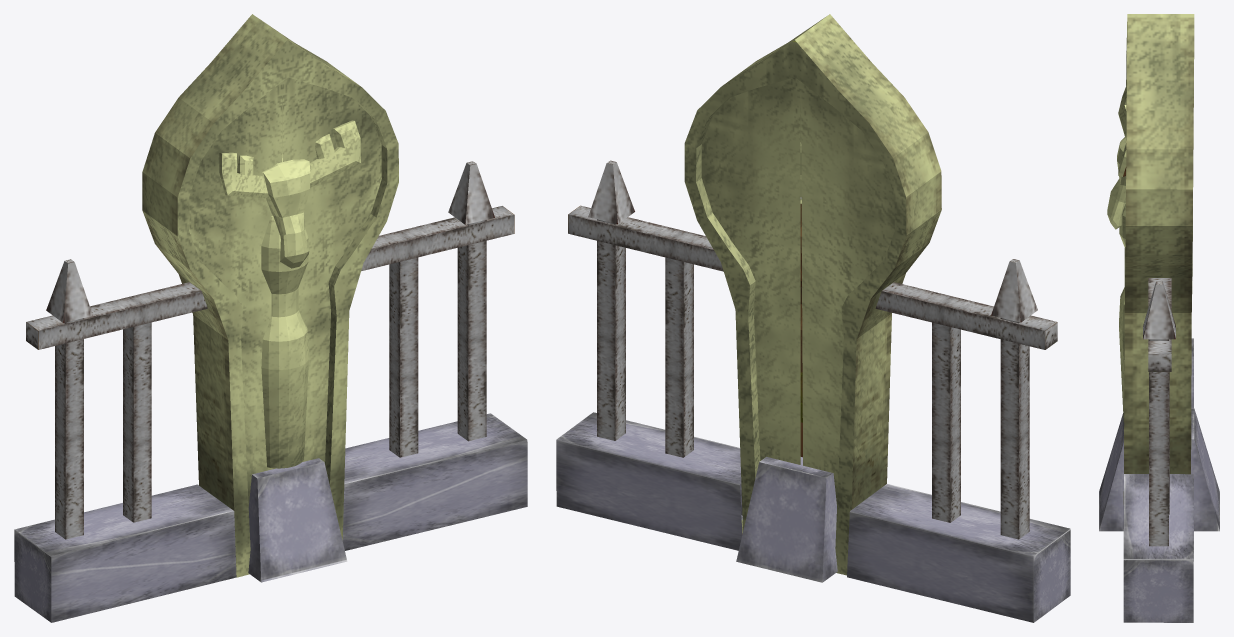
Rendered from PopUpFence.FBX.
3 views of the same model, side by side, from view 1: azimuth 30°, elevation 25°; view 2: azimuth 150°, elevation 25°; view 3: azimuth 270°, elevation 25° (orthographic). The views are drawn at different scales.
Parts seen in each view (by area): view 1: MooseFence001; view 2: MooseFence001; view 3: MooseFence001.
Part boxes in pixels (left/top/right/bottom): MooseFence001: left=14, top=14, right=527, bottom=622; MooseFence001: left=556, top=14, right=1070, bottom=622; MooseFence001: left=1099, top=14, right=1219, bottom=622.
Bounding box in the file's own units: 33.13 × 34.83 × 7.64.
